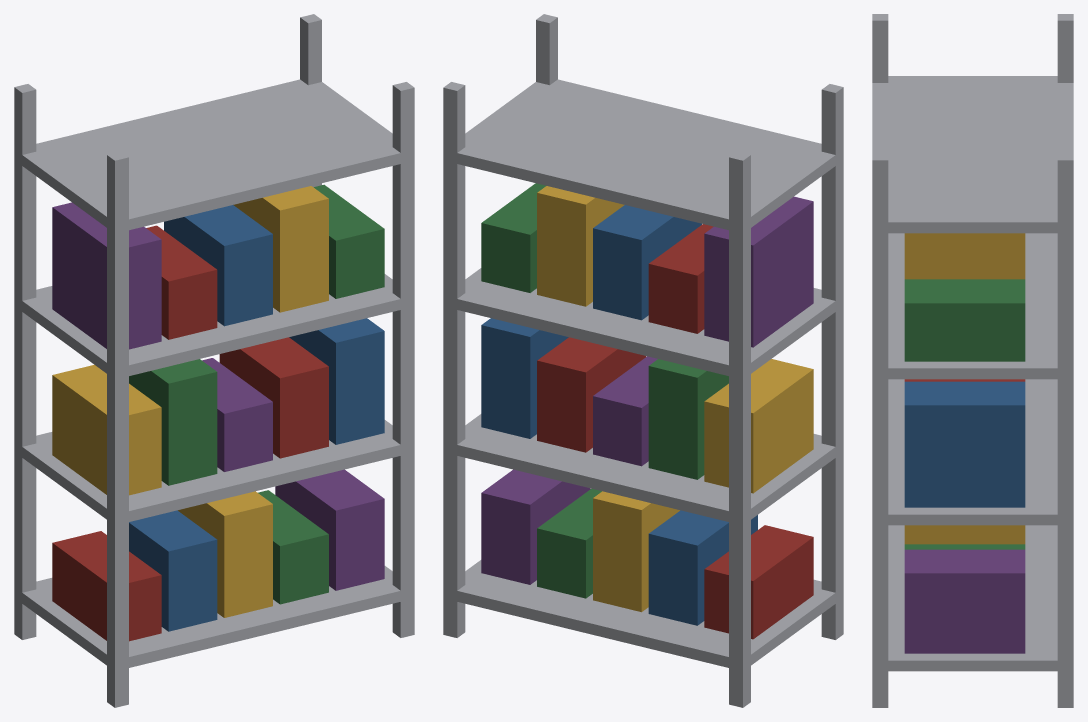
File: mod-prateleira.gltf
3 views of the same model, side by side, from view 1: azimuth 30°, elevation 25°; view 2: azimuth 150°, elevation 25°; view 3: azimuth 270°, elevation 25° (orthographic).
Visible parts, largest first — view 1: mod-prateleira; view 2: mod-prateleira; view 3: mod-prateleira.
Part boxes in pixels (x1,y1,x2,y2): mod-prateleira: [14, 14, 414, 707]; mod-prateleira: [443, 14, 843, 707]; mod-prateleira: [872, 14, 1073, 707].
Size of the model in its own units: 0.86 by 1.5 by 0.5.
